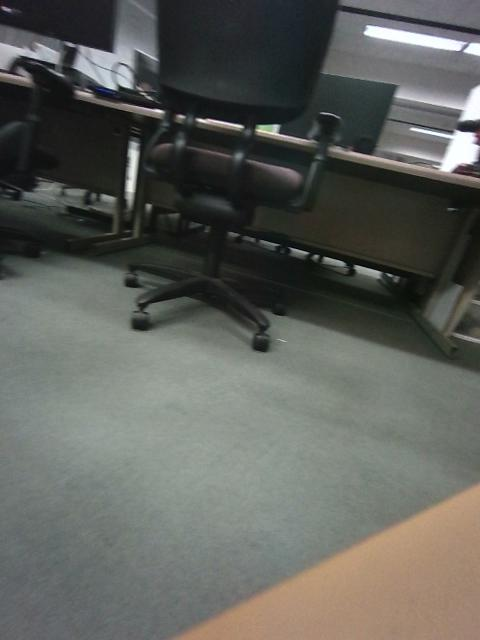block: (175, 337, 245, 377)
